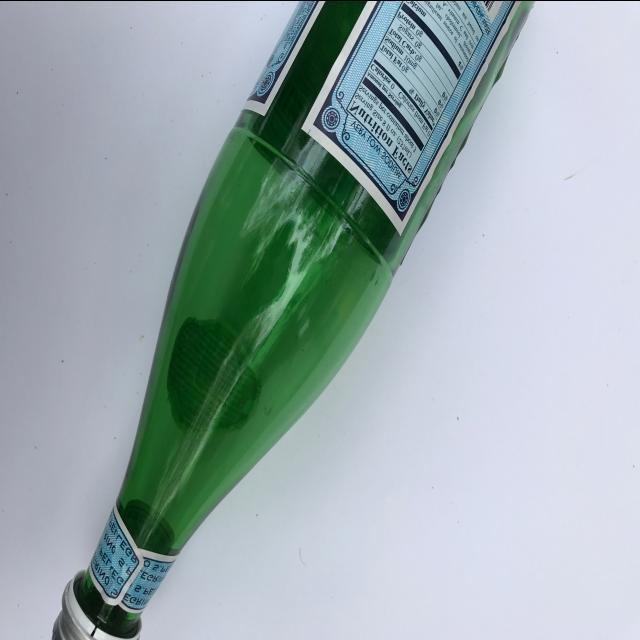glass: (47, 0, 540, 636)
